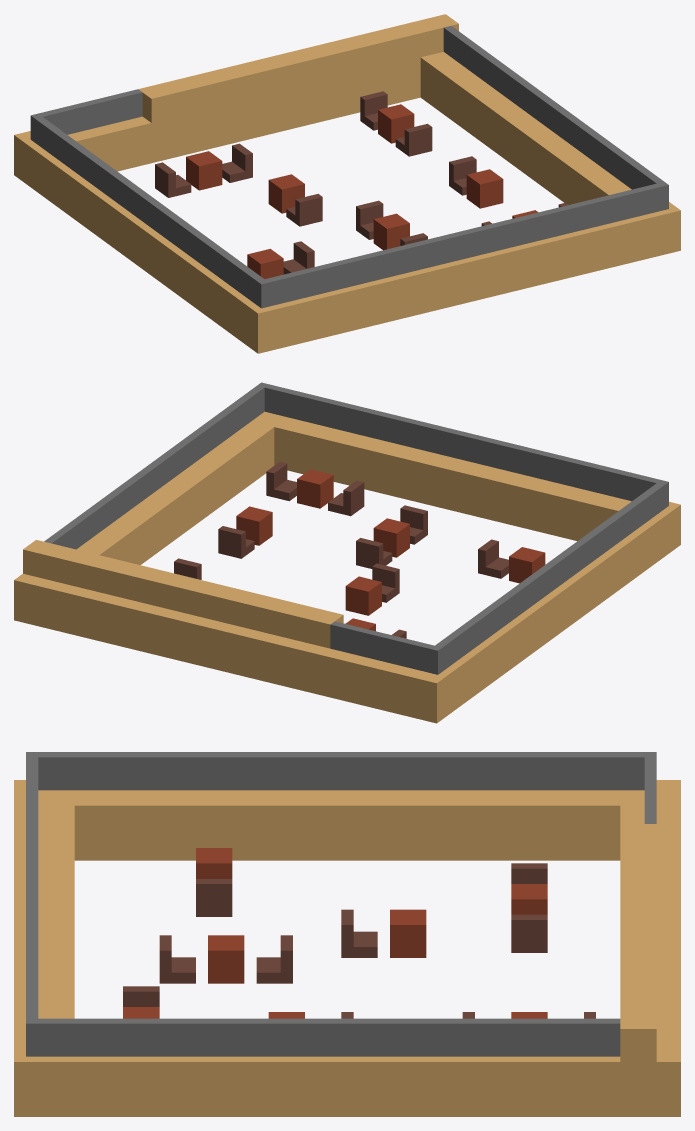
The model's file is Cafe_Area.obj.
3 views of the same model, one above another, from view 1: azimuth 30°, elevation 25°; view 2: azimuth 150°, elevation 25°; view 3: azimuth 270°, elevation 25° (orthographic). The views are drawn at different scales.
Bounding box in the file's own units: 55 × 8 × 55.
